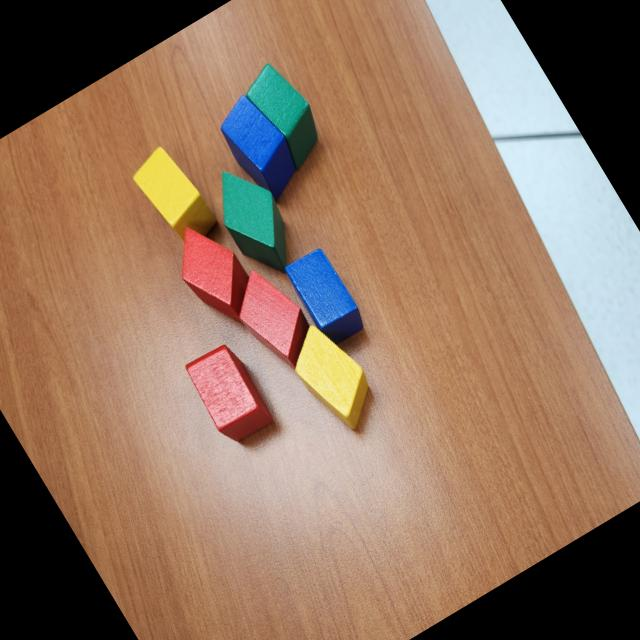blue: (208, 87, 312, 208), (281, 245, 371, 351)
green: (199, 154, 311, 288), (238, 54, 336, 174)
red: (160, 211, 271, 341), (222, 256, 328, 380), (182, 338, 278, 449)
yellow: (278, 312, 390, 443), (126, 140, 222, 252)
